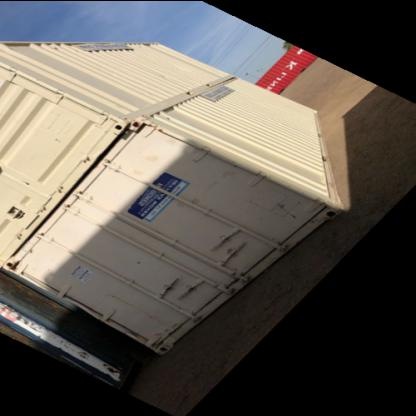Damage: (204, 203, 320, 261), (131, 280, 214, 330)
